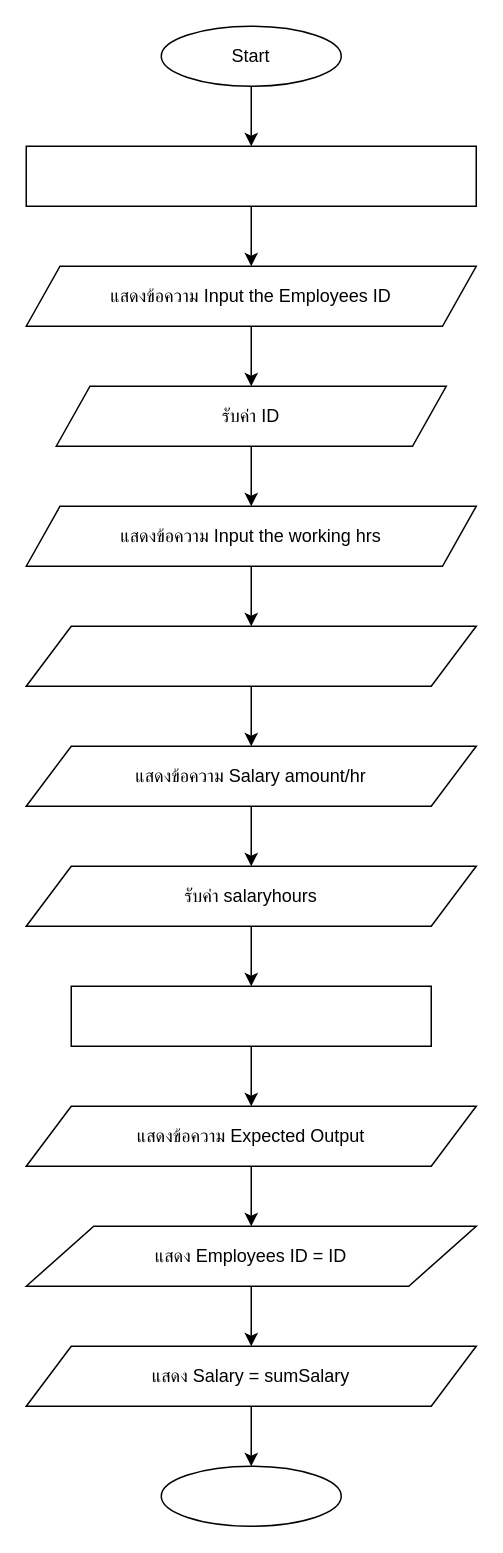
Some shapes in this 503 by 1553 pixel diagram are drawn without their labels. The centre of each missing label's shape, as x and y in pixels:
"Stop" goes at point 250,1495.
"กำหนดตัวแปร ID[11], hours, salaryhours, sumSalary" goes at point 250,175.
"คำนวณ sumSalary = hours * salaryhours" goes at point 250,1015.
"รับค่า hours" goes at point 250,655.
